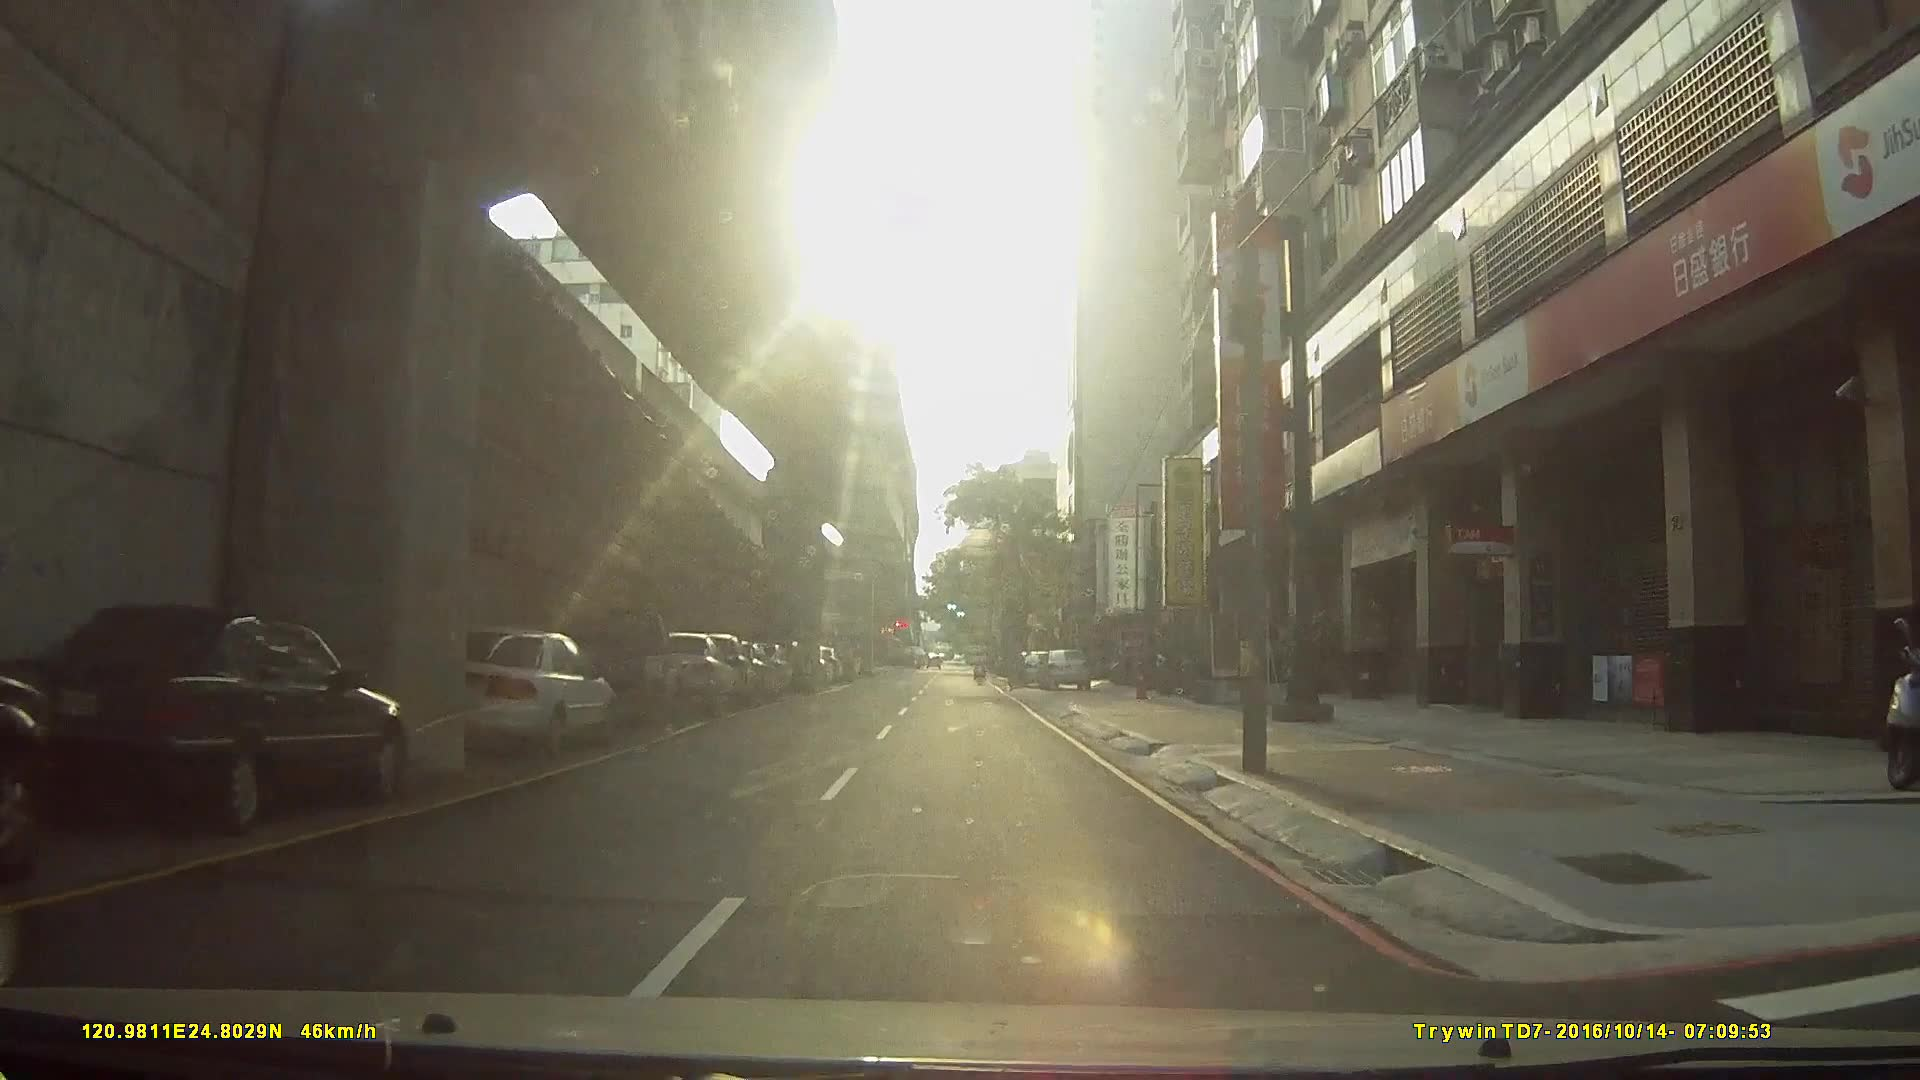vehicle: (0, 600, 407, 833), (431, 622, 616, 756), (531, 605, 680, 728), (636, 629, 741, 716), (659, 620, 794, 670), (1035, 646, 1095, 692)
